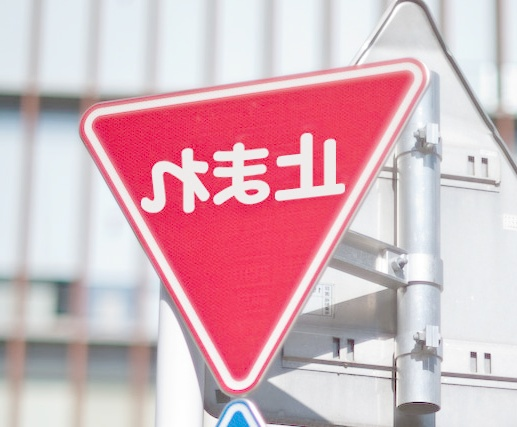Regulatory_sign_triangle: (58, 47, 433, 391)
